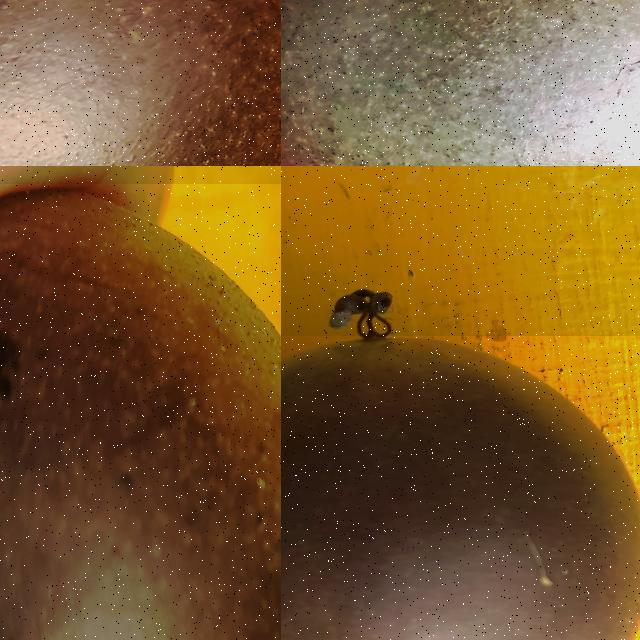Estado-1: (281, 0, 640, 166)
Estado-4: (281, 336, 640, 640)
Estado-5: (0, 184, 281, 640)
Estado-6: (0, 0, 281, 166)
